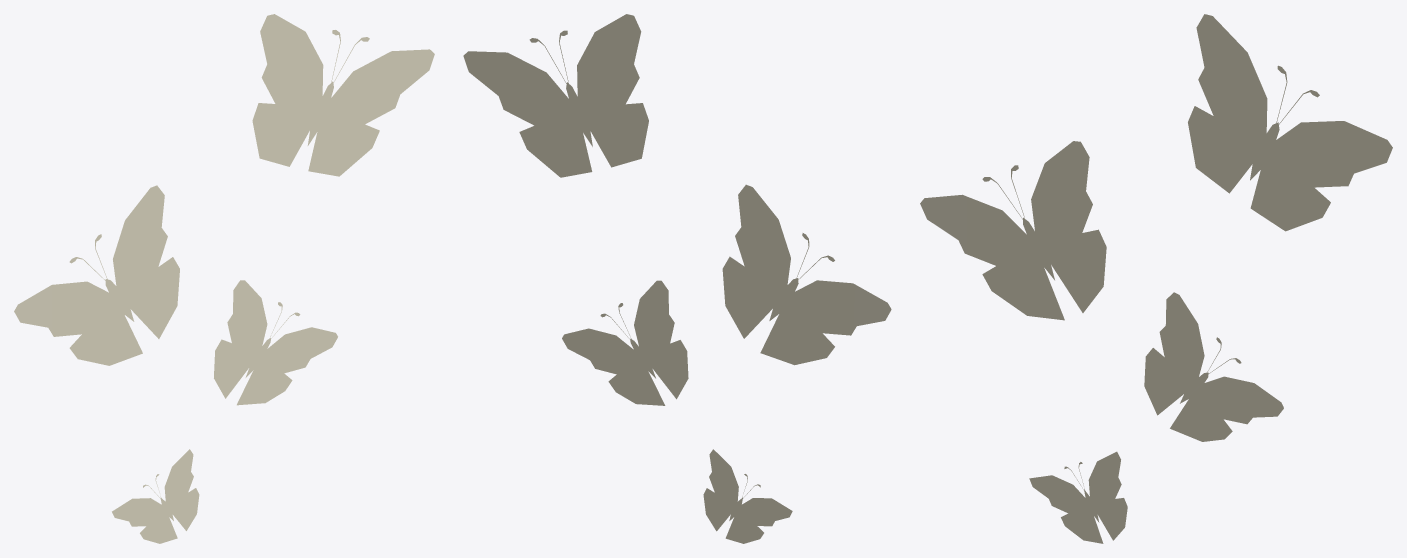
Rendered from WallDecor1.fbx.
3 renders of one model, left to right at view 1: azimuth 30°, elevation 25°; view 2: azimuth 150°, elevation 25°; view 3: azimuth 330°, elevation 25°, orthographic. The views are drawn at different scales.
Visible parts, largest first — view 1: WallDecor1; view 2: WallDecor1; view 3: WallDecor1.
Part boxes in pixels (x1=…): WallDecor1: x1=14, y1=14, x2=434, y2=543; WallDecor1: x1=463, y1=14, x2=891, y2=543; WallDecor1: x1=920, y1=14, x2=1392, y2=543.
Bounding box in the file's own units: 36.26 × 40.94 × 0.4553.
